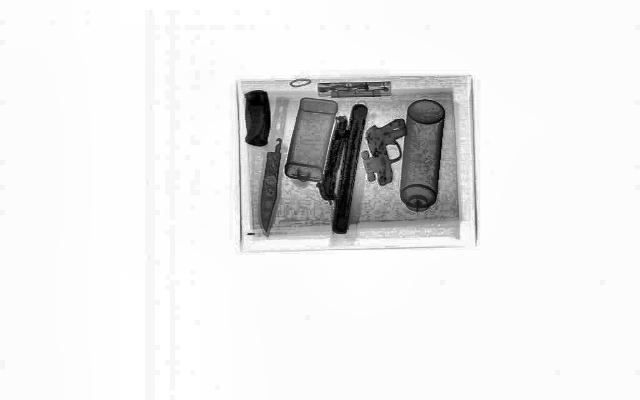Gun: (361, 116, 421, 186)
Knife: (255, 139, 285, 234), (317, 114, 349, 198), (242, 90, 272, 146)
